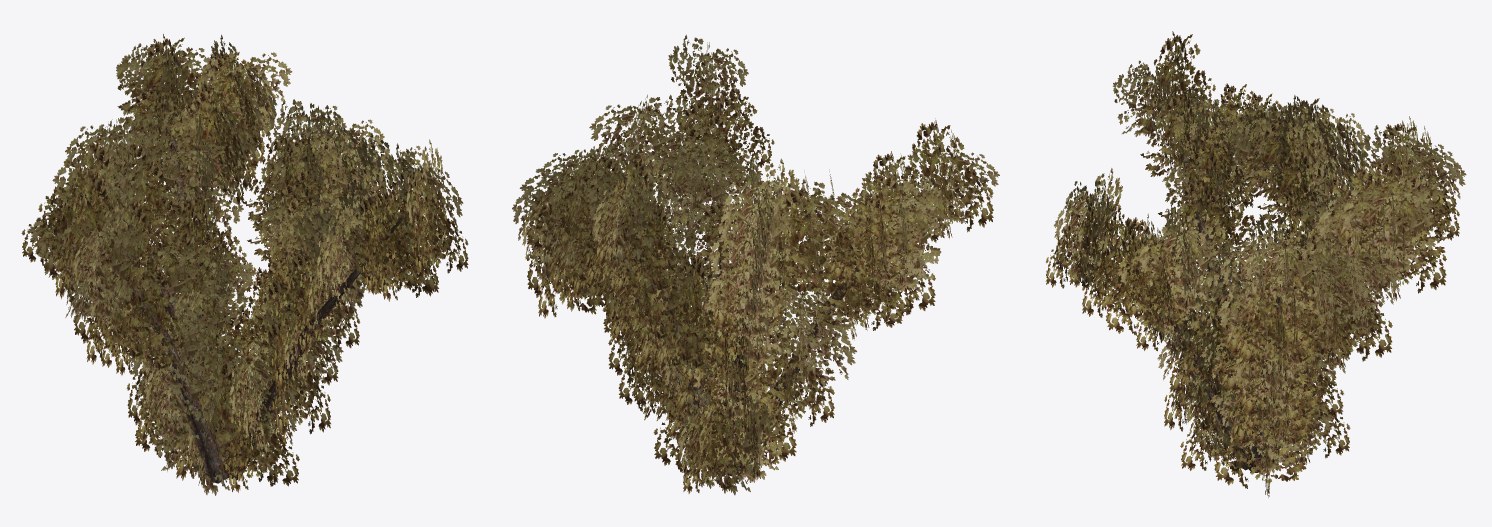
File: bush_3d_03_golden_beige_lod0.glb
The picture shows the model from 3 angles, left to right: view 1: azimuth 30°, elevation 25°; view 2: azimuth 150°, elevation 25°; view 3: azimuth 270°, elevation 25°; orthographic projection. The views are drawn at different scales.
Parts seen in each view (by area): view 1: foliage_cards, wood_geometry; view 2: foliage_cards, wood_geometry; view 3: foliage_cards, wood_geometry.
Boxes of the visible parts, x1,y1,x2,y2 form: foliage_cards: (21,34,468,495); wood_geometry: (77,79,403,483); foliage_cards: (512,34,999,495); wood_geometry: (576,103,934,476); foliage_cards: (1045,31,1466,497); wood_geometry: (1096,99,1424,472).
Size of the model in its own units: 2.39 by 2.09 by 2.27.
2 materials, 2 textured.
